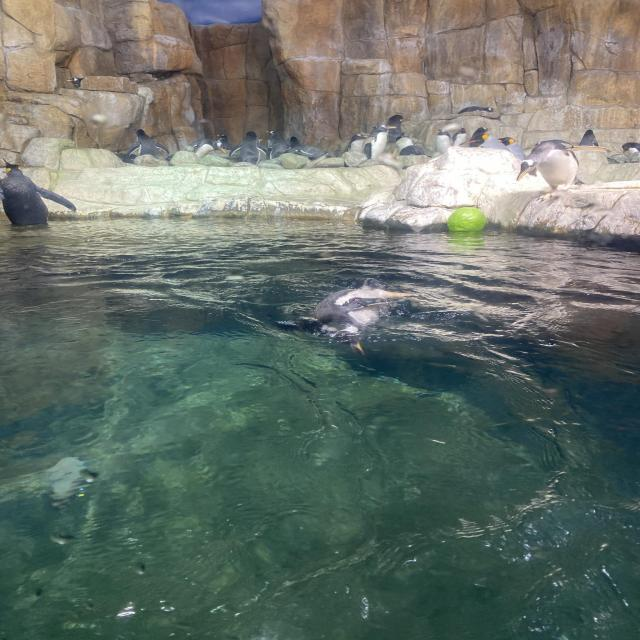penguin: (280, 282, 416, 354), (0, 161, 76, 233), (516, 140, 581, 197), (120, 128, 170, 166), (231, 131, 267, 163), (279, 135, 321, 161), (369, 124, 397, 153), (188, 138, 224, 160), (384, 113, 406, 147), (340, 132, 368, 158), (452, 126, 470, 146), (493, 136, 514, 152), (436, 130, 449, 154), (474, 126, 489, 146), (584, 128, 598, 145), (623, 140, 639, 153)
